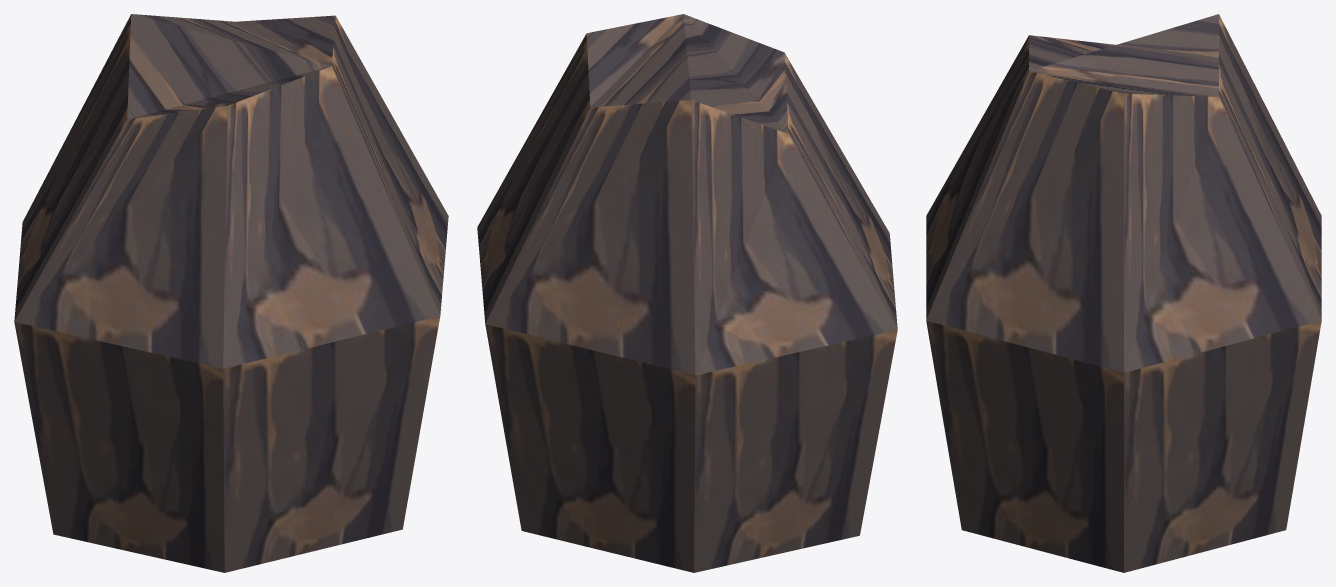
File: SM_RC_Terrain_Rock_Large_A.gltf
3 renders of one model, left to right at view 1: azimuth 30°, elevation 25°; view 2: azimuth 150°, elevation 25°; view 3: azimuth 270°, elevation 25°, orthographic. The views are drawn at different scales.
Visible parts, largest first — view 1: SM_RC_Terrain_Rock_Large_A; view 2: SM_RC_Terrain_Rock_Large_A; view 3: SM_RC_Terrain_Rock_Large_A.
Part boxes in pixels (left/top/right/bottom): SM_RC_Terrain_Rock_Large_A: left=14, top=14, right=448, bottom=572; SM_RC_Terrain_Rock_Large_A: left=477, top=14, right=897, bottom=572; SM_RC_Terrain_Rock_Large_A: left=926, top=14, right=1321, bottom=572.
Bounding box in the file's own units: 5 × 5 × 4.
Materials: 1 (1 with a texture image).
